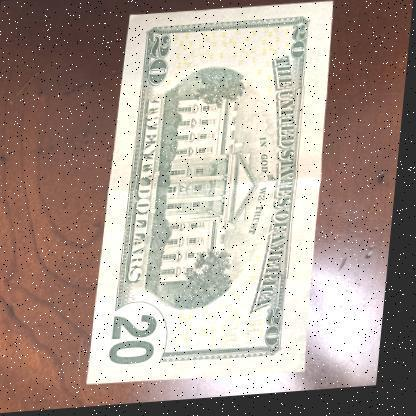dollar_back: (91, 3, 341, 388)
